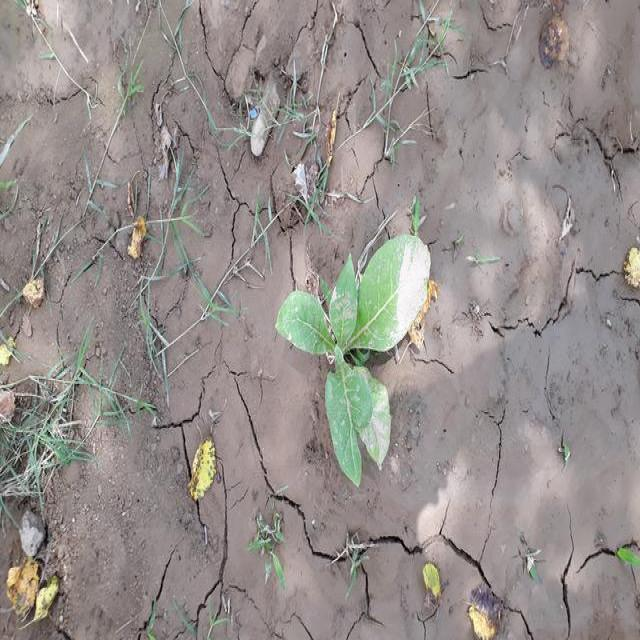crop: (242, 218, 427, 506)
